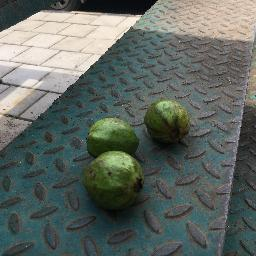Good_guava: (84, 111, 143, 211)
